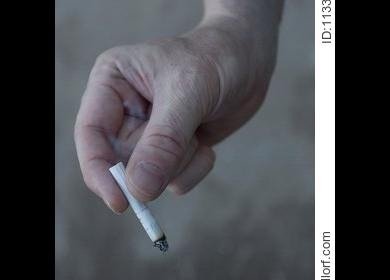Cigarette: (110, 158, 168, 249)
